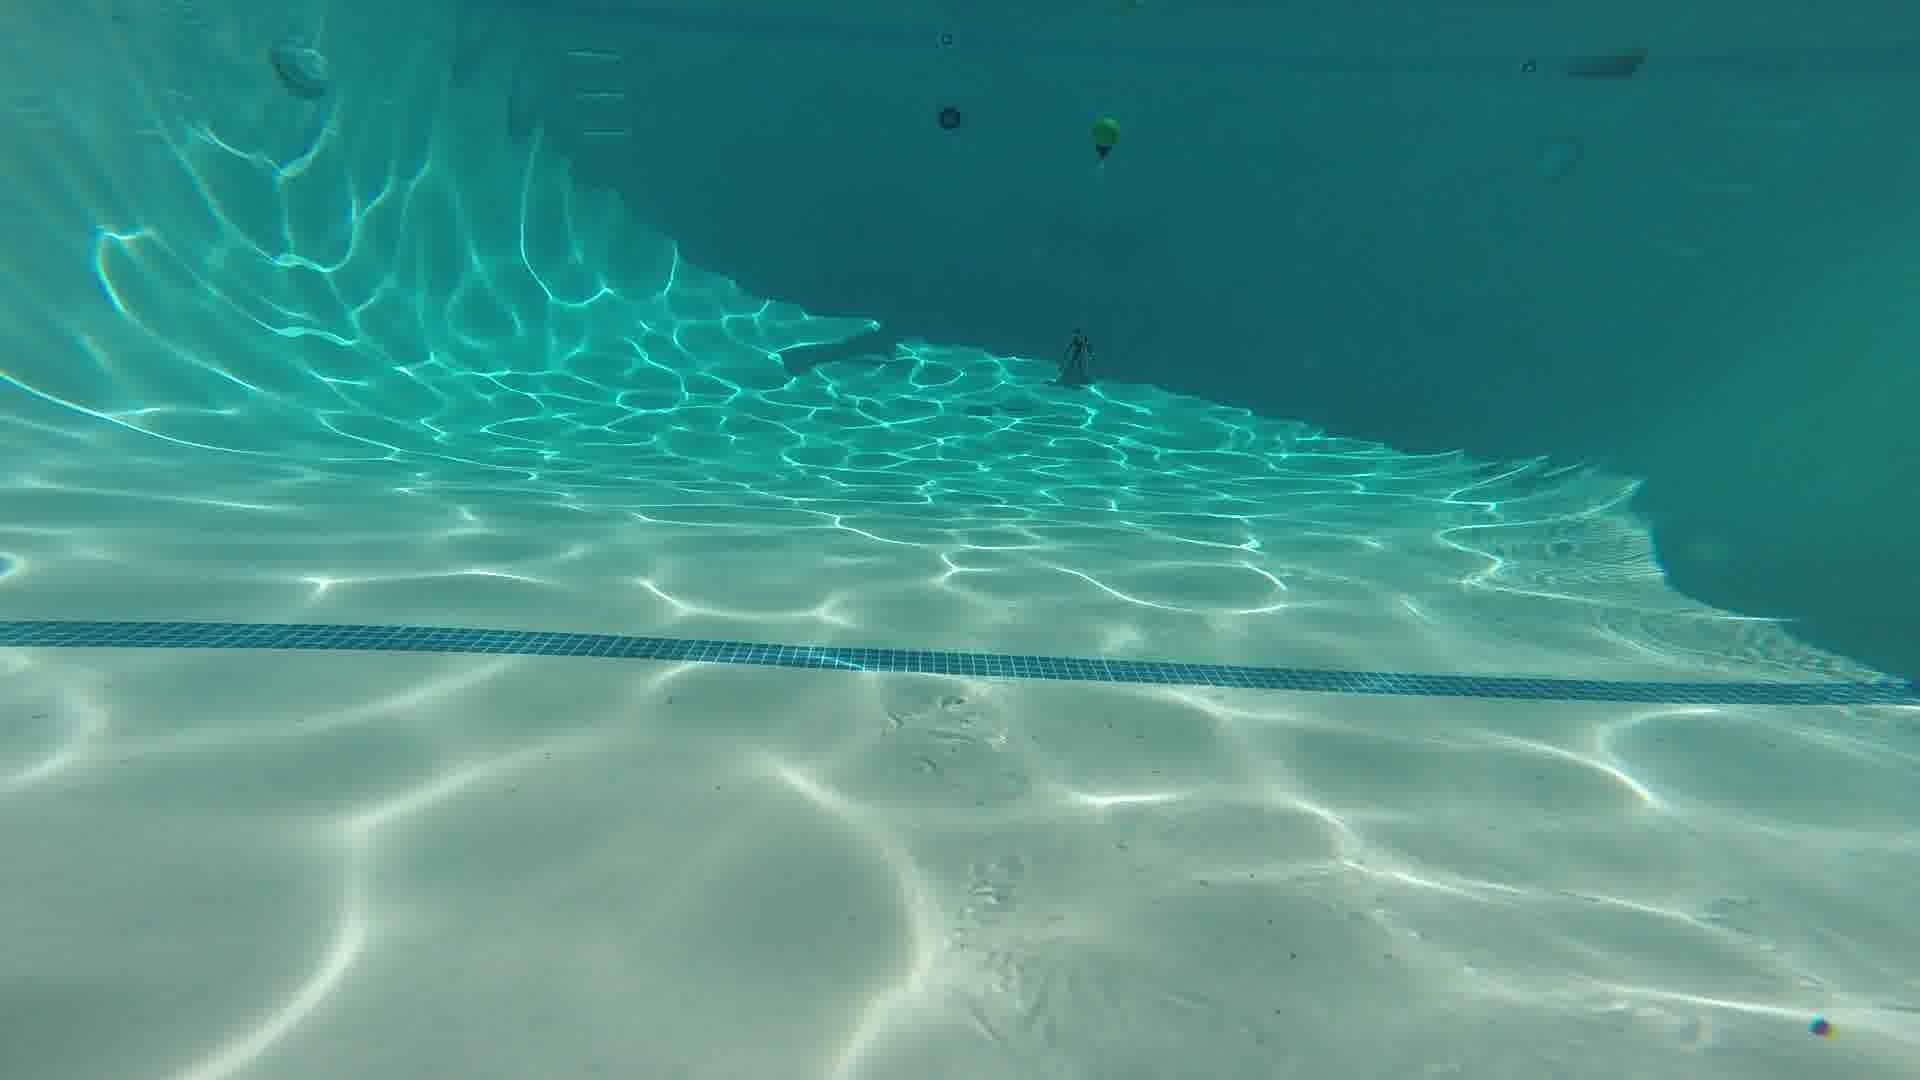yellow_buoy: (1087, 109, 1124, 173)
